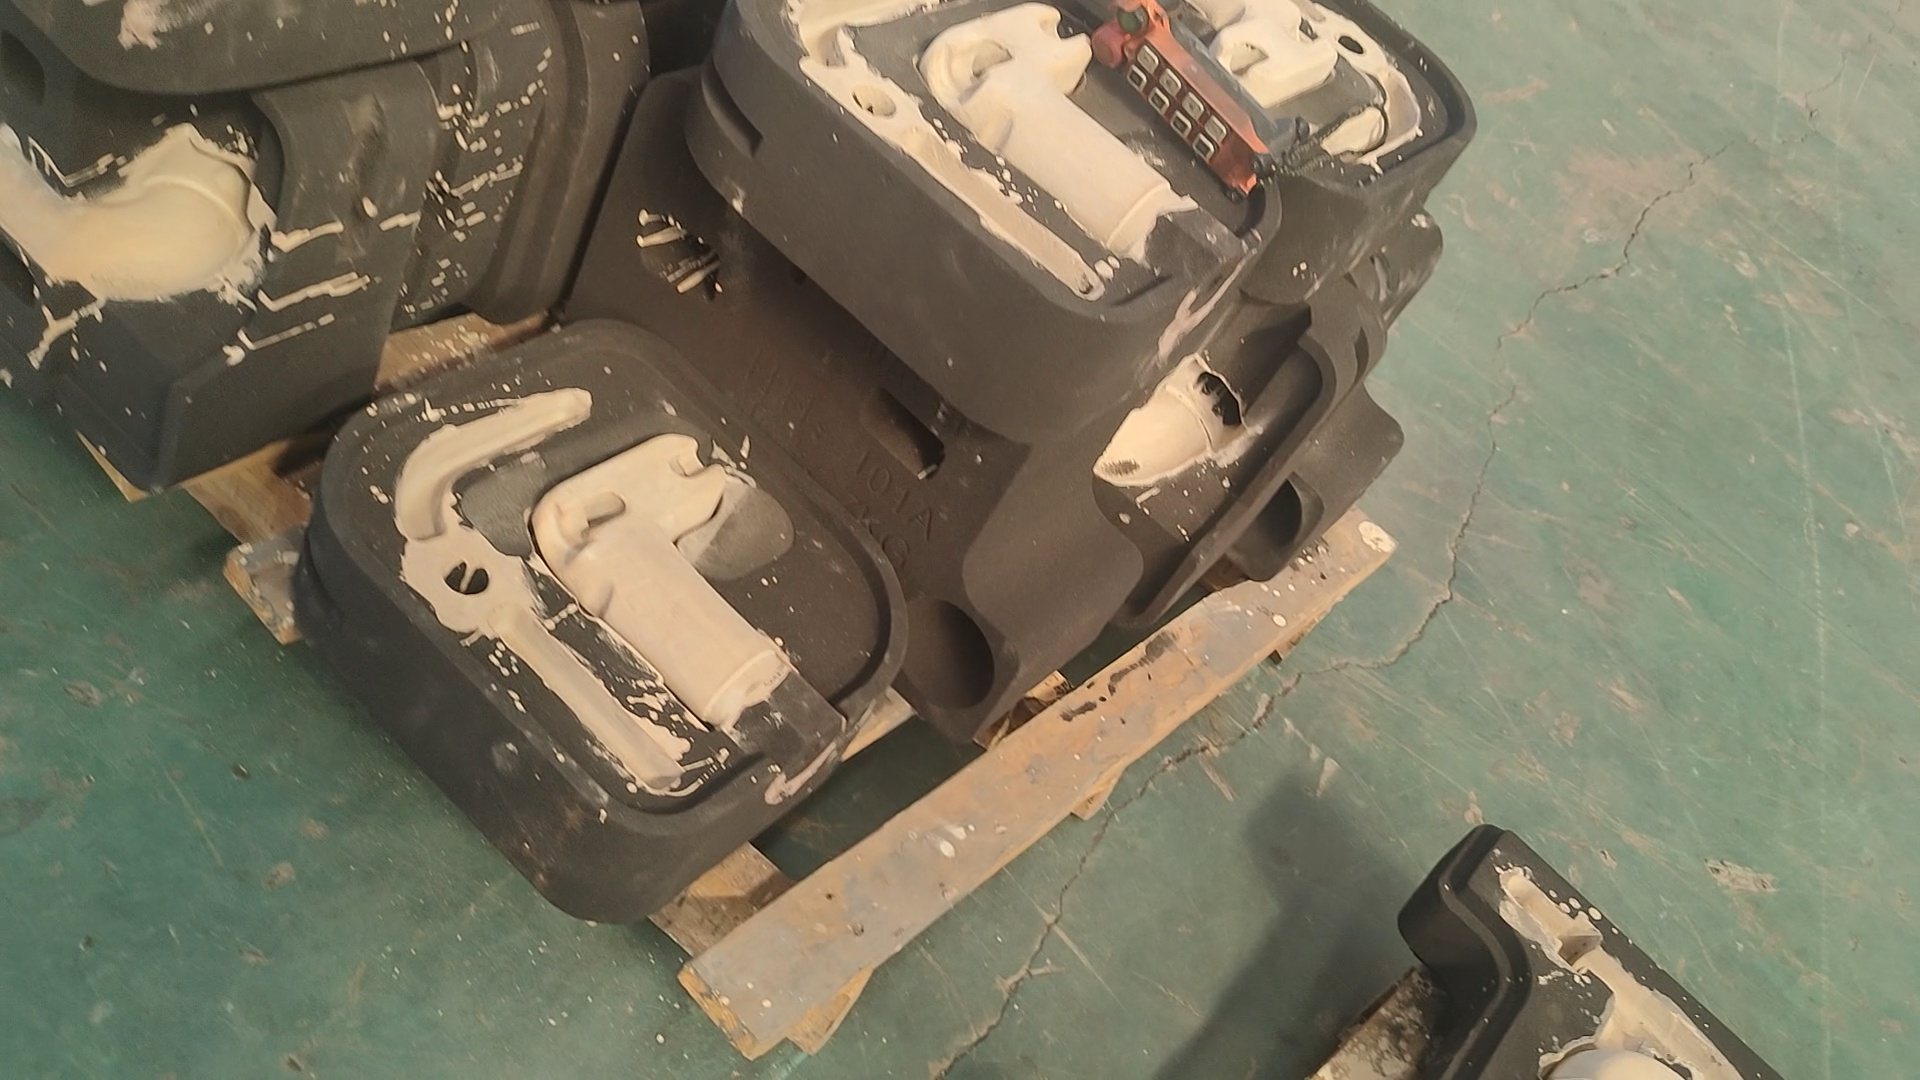pouring hole: (894, 597, 996, 709), (1217, 469, 1302, 559)
